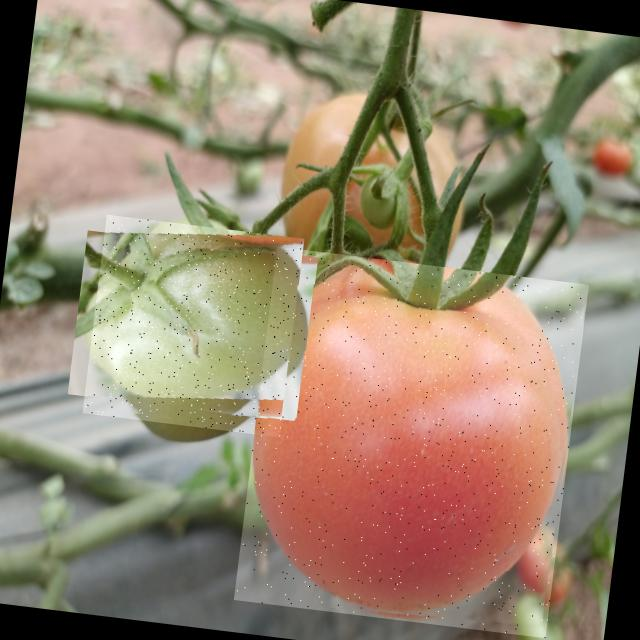Ripe Tomato: (234, 246, 588, 638)
Unripe Tomato: (82, 214, 304, 437)
